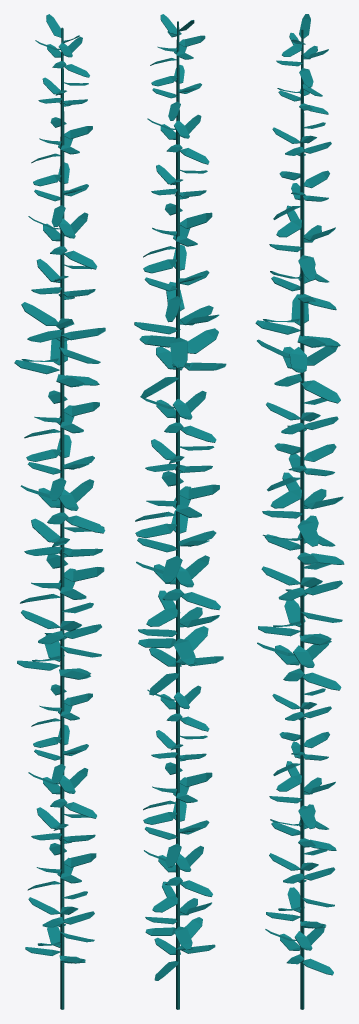
File: Seaweed_021.glb
The picture shows the model from 3 angles, left to right: view 1: azimuth 30°, elevation 25°; view 2: azimuth 210°, elevation 25°; view 3: azimuth 330°, elevation 25°; orthographic projection.
Visible parts, largest first — view 1: Seaweed_021; view 2: Seaweed_021; view 3: Seaweed_021.
Boxes of the visible parts, x1,y1,x2,y2 form: Seaweed_021: (14,14,105,1009); Seaweed_021: (134,14,226,1009); Seaweed_021: (255,14,344,1009).
Size of the model in its own units: 0.6888 by 8.19 by 0.6535.
Materials: 1 (1 with a texture image).
